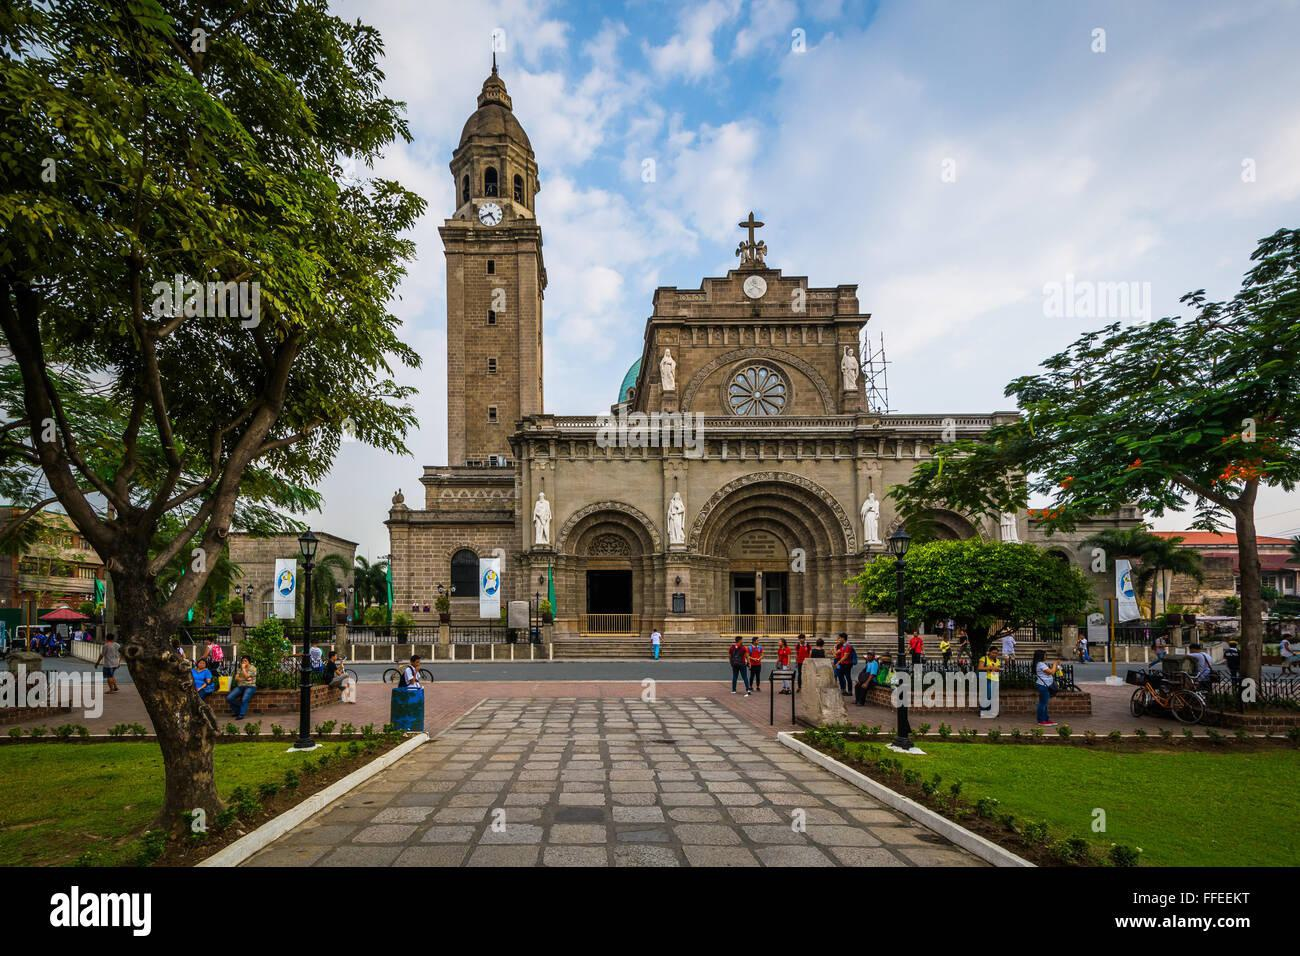manila_cathedral_church_intramuros_manila: (380, 27, 1039, 643)
